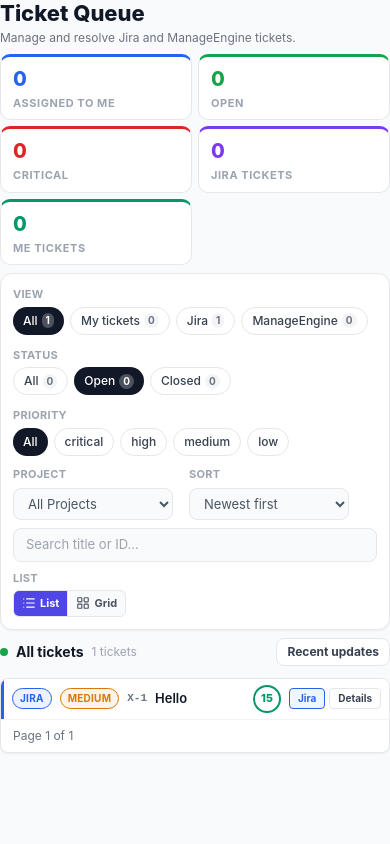
Test: TicketsView › opens mobile activity overlay when Recent updates is clicked
Step 1. Click the button "Recent updates" → {"x": 333, "y": 652}, box [276, 638, 389, 666]
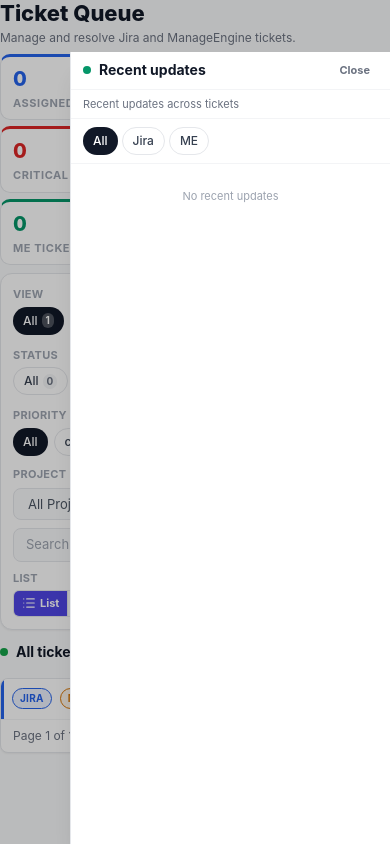
Expected: the element with id "activity-panel" is shown
